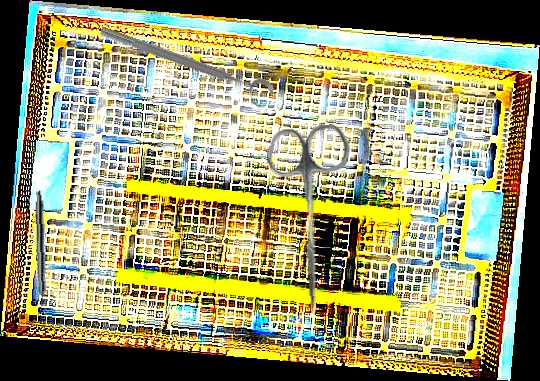Fixation Ring: (94, 20, 276, 113)
Handpiece: (32, 190, 48, 315)
Iris Scissors: (265, 123, 359, 316)
